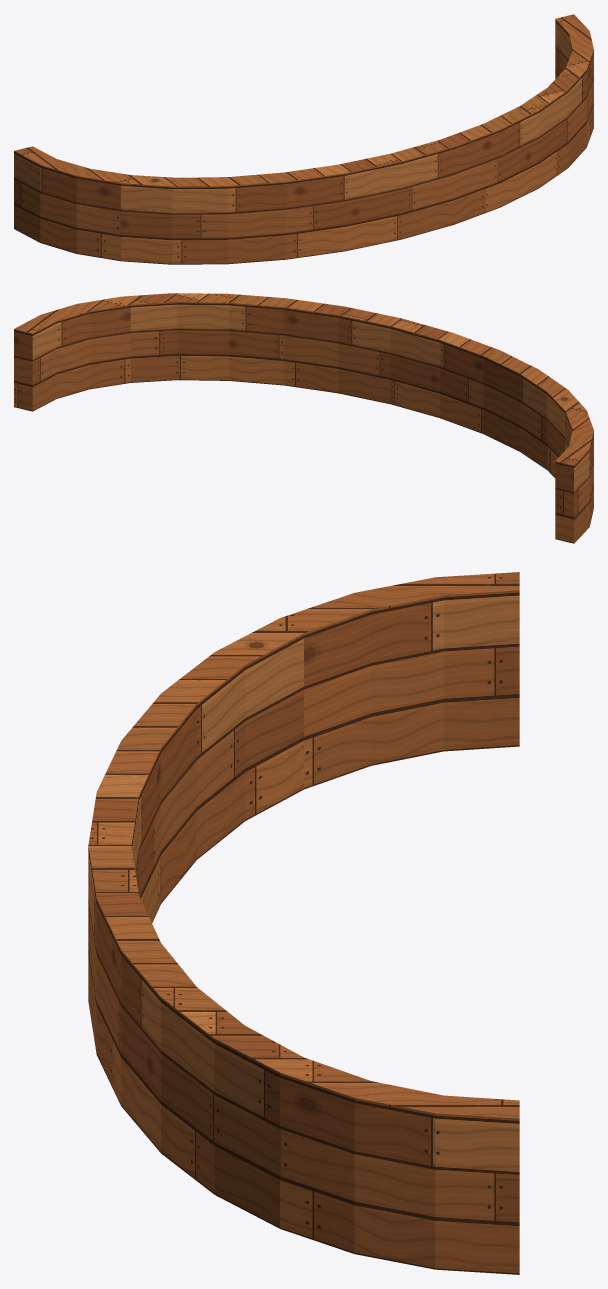
File: TOP_STERN.glb
The picture shows the model from 3 angles, top to bottom: view 1: azimuth 30°, elevation 25°; view 2: azimuth 150°, elevation 25°; view 3: azimuth 270°, elevation 25°; orthographic projection. The views are drawn at different scales.
Parts seen in each view (by area): view 1: TOP_STERN; view 2: TOP_STERN; view 3: TOP_STERN.
Part boxes in pixels (<box>): TOP_STERN: <box>14,14,593,264</box>; TOP_STERN: <box>14,293,593,543</box>; TOP_STERN: <box>88,572,519,1274</box>.
Bounding box in the file's own units: 6 × 0.8 × 2.
1 material, 1 textured.
